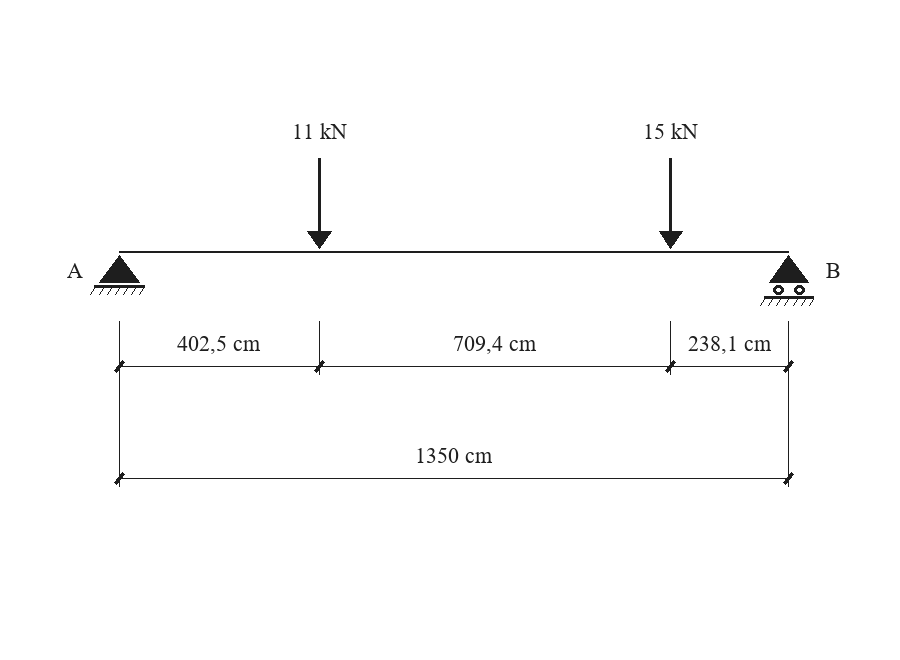pin_support: (90, 255, 145, 295)
point_load: (307, 158, 332, 249), (659, 158, 683, 249)
roller_support: (760, 255, 814, 306)
